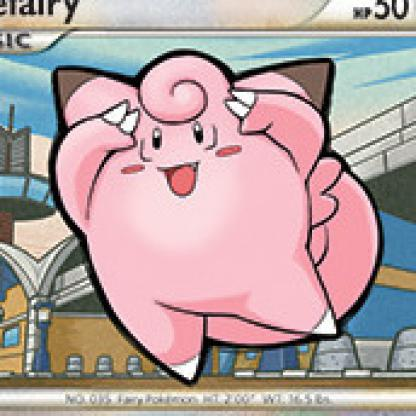Clefairy: (395, 52, 397, 55)
